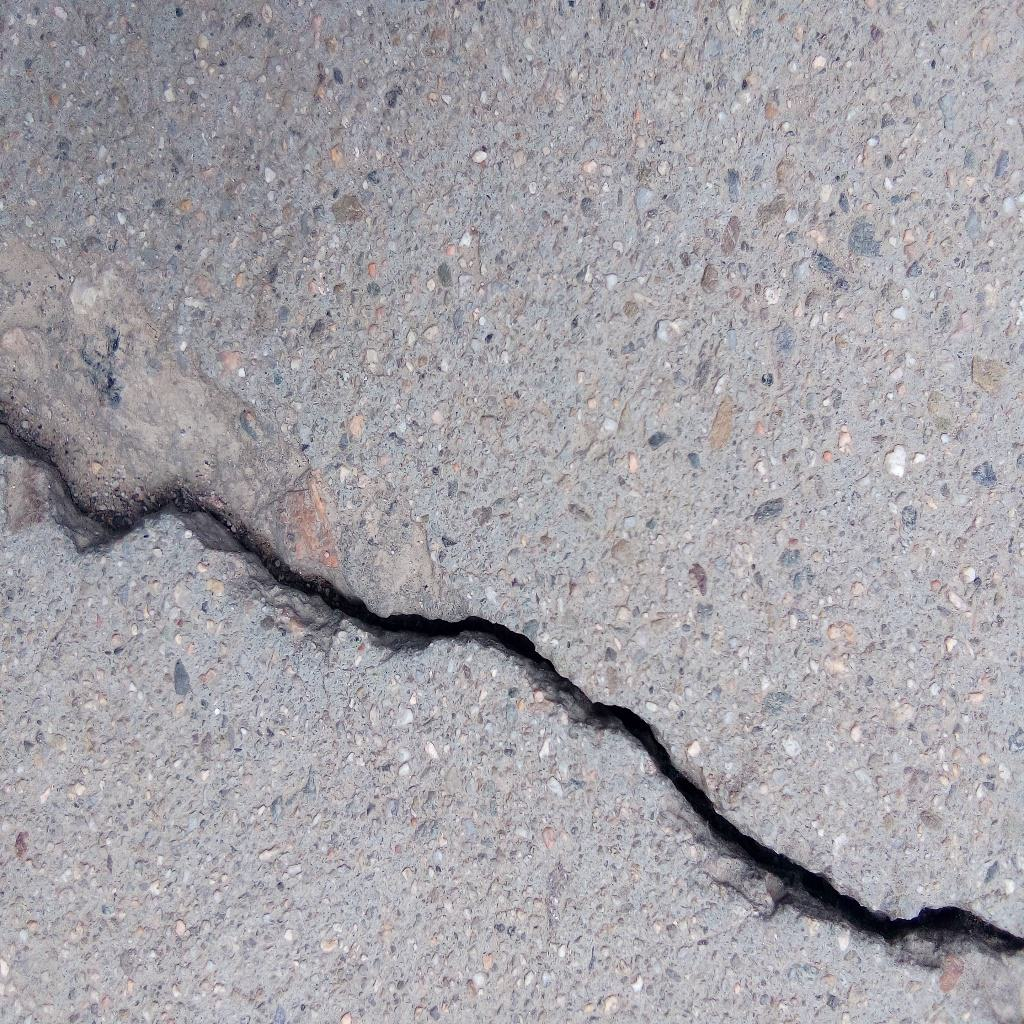Crack: (1, 418, 1024, 961)
Spalling: (1, 245, 340, 577)
